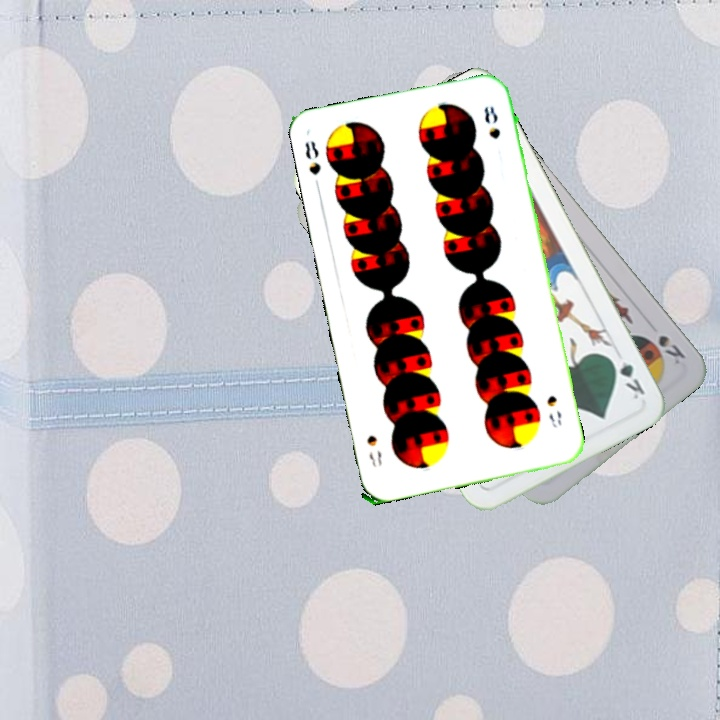GK: (605, 352, 648, 402)
S8: (301, 137, 324, 178), (543, 391, 564, 431)
SK: (654, 331, 688, 368)
